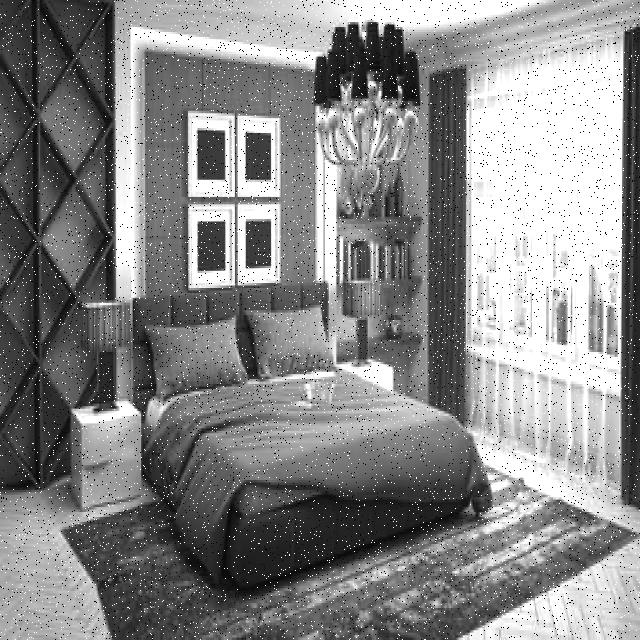bed: (130, 284, 484, 531)
